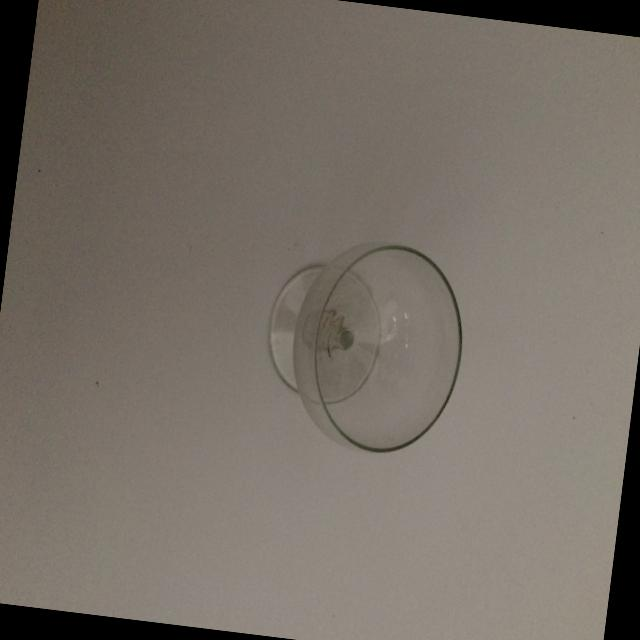Glass: (239, 220, 484, 482)
